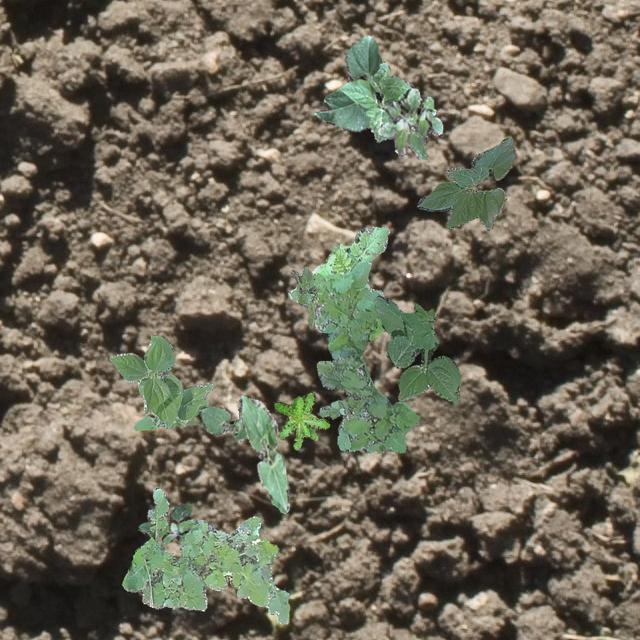crop: (312, 34, 434, 140), (109, 332, 212, 430), (416, 136, 516, 230), (238, 394, 290, 512), (198, 406, 246, 440)
weed: (287, 225, 418, 452), (120, 487, 288, 622), (372, 294, 460, 402), (376, 88, 441, 158), (274, 391, 328, 448), (138, 502, 196, 542), (290, 266, 320, 328)
